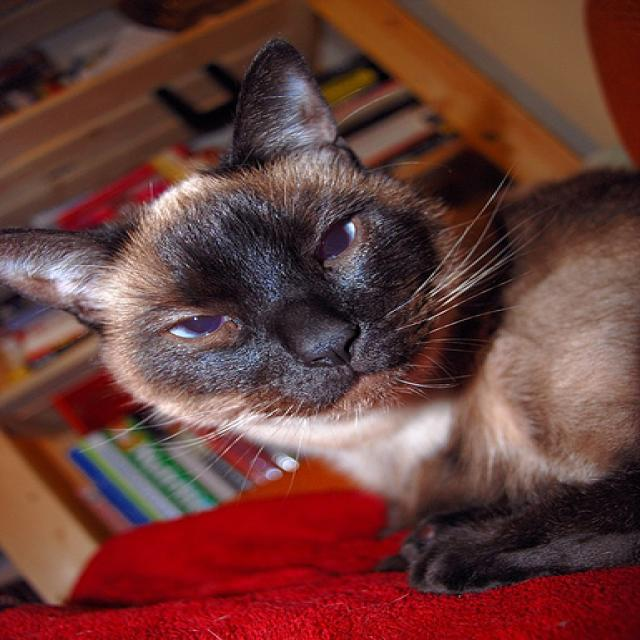cat: (1, 29, 639, 597)
